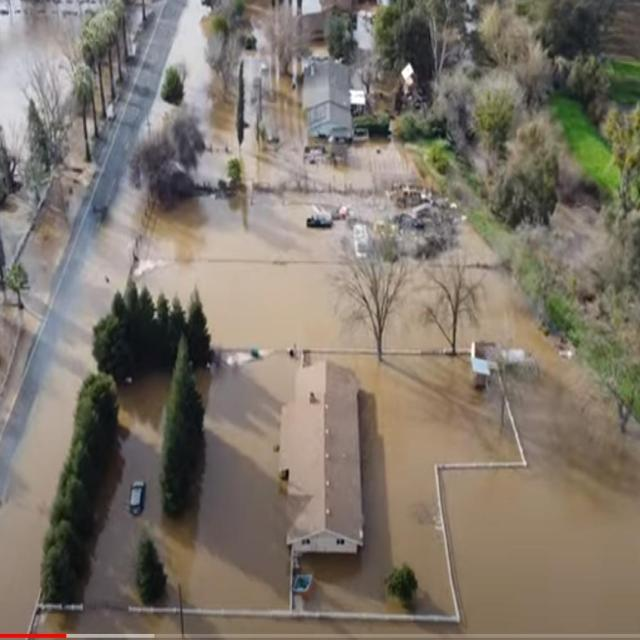flood: (184, 219, 640, 635), (37, 190, 374, 634), (0, 176, 146, 633), (300, 354, 519, 615), (0, 164, 93, 434), (261, 95, 420, 188), (168, 0, 237, 180), (0, 11, 80, 158), (385, 261, 448, 350), (242, 3, 269, 184), (0, 0, 104, 12), (150, 93, 170, 128)
house: (281, 353, 367, 563), (302, 55, 356, 141)
